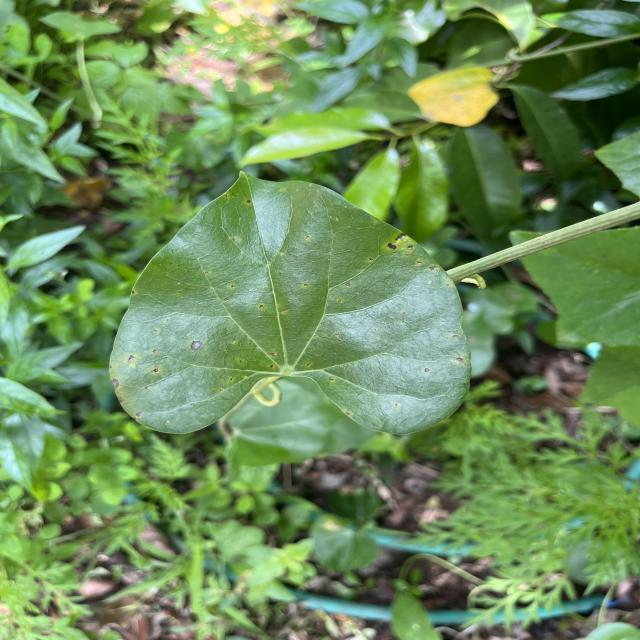Tinospora cordifolia: (105, 165, 474, 438)
